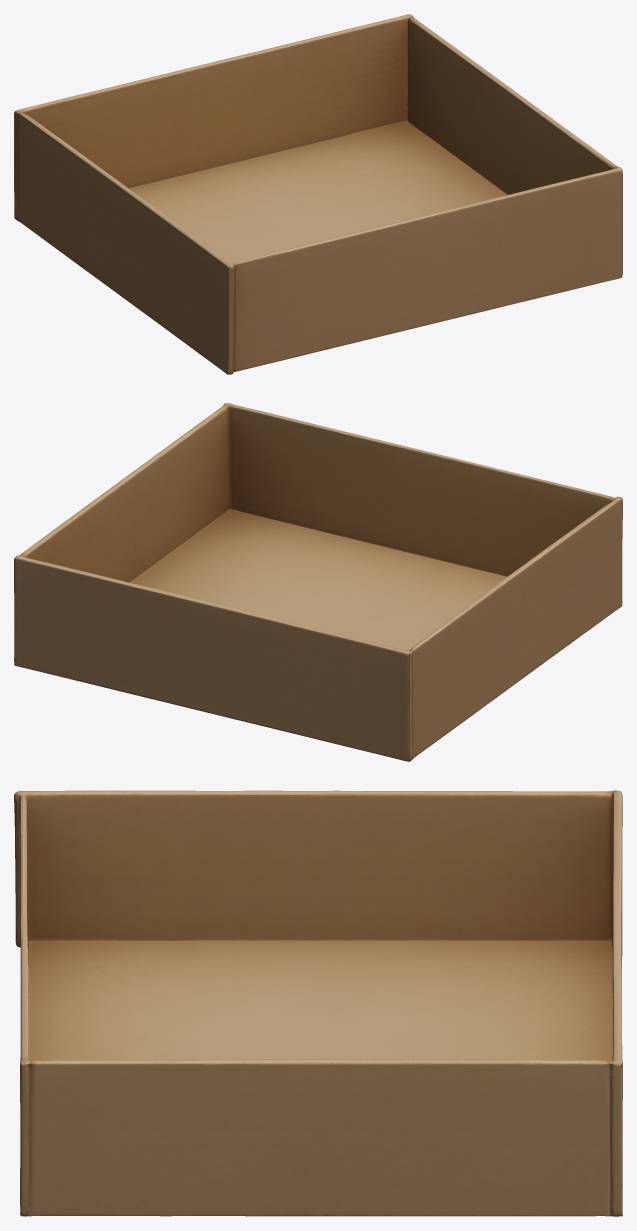
File: g50-cookie-box.glb
3 views of the same model, one above another, from view 1: azimuth 30°, elevation 25°; view 2: azimuth 150°, elevation 25°; view 3: azimuth 270°, elevation 25° (orthographic). The views are drawn at different scales.
Parts seen in each view (by area): view 1: geometry_0; view 2: geometry_0; view 3: geometry_0.
Part boxes in pixels (x1,y1,x2,y2): geometry_0: [14, 14, 622, 374]; geometry_0: [14, 403, 622, 761]; geometry_0: [14, 790, 622, 1216].
Size of the model in its own units: 0.9992 by 0.2628 by 0.9376.
Materials: 1 (1 with a texture image).
